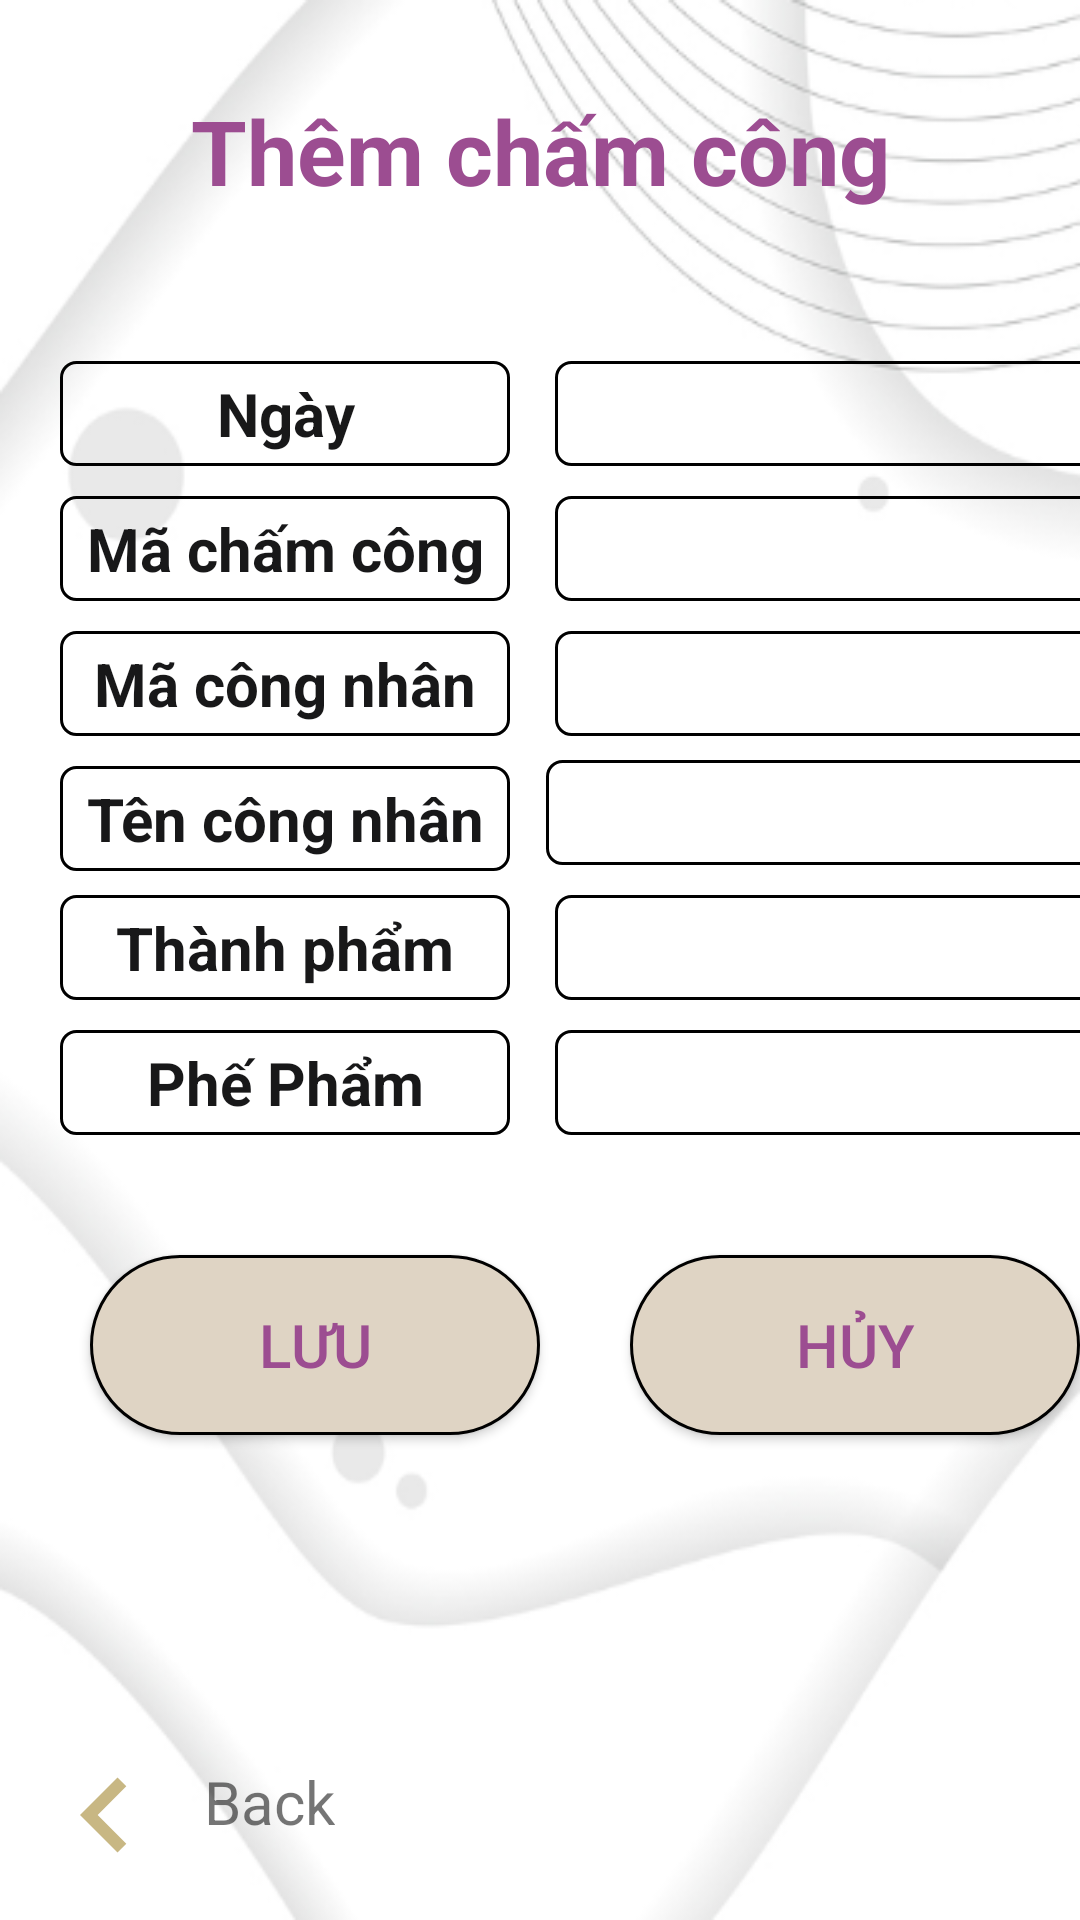

Screen size 1080 × 1920. Icon name, then its box in pixels as (x1, y1, x2, y2):
chevron left: (80, 1777, 126, 1853)
